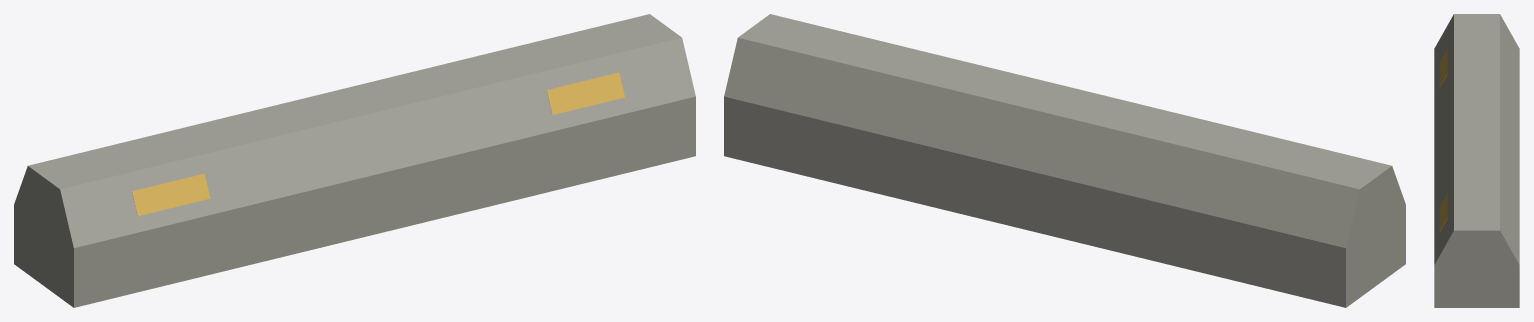
The model's file is original-car-stop.glb.
The picture shows the model from 3 angles, left to right: view 1: azimuth 30°, elevation 25°; view 2: azimuth 150°, elevation 25°; view 3: azimuth 270°, elevation 25°; orthographic projection. The views are drawn at different scales.
Parts seen in each view (by area): view 1: original-car-stop; view 2: original-car-stop; view 3: original-car-stop.
Part boxes in pixels (bbox=[...]): original-car-stop: bbox=[14, 14, 695, 307]; original-car-stop: bbox=[724, 14, 1405, 307]; original-car-stop: bbox=[1434, 14, 1519, 307].
Size of the model in its own units: 0.6 by 0.1 by 0.1.
